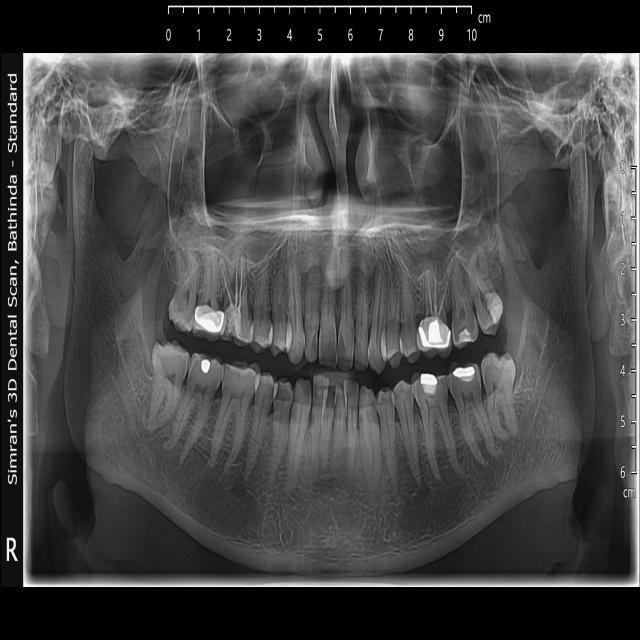Crown: (417, 314, 452, 349), (192, 303, 224, 337)
Filling: (224, 305, 242, 338), (487, 285, 503, 318), (421, 374, 436, 397), (453, 366, 473, 380), (458, 326, 472, 344), (200, 359, 211, 376)
Mandibular Canal: (408, 320, 563, 539), (102, 326, 260, 531)
Root Canal Treatment: (436, 257, 451, 316), (233, 246, 244, 309), (219, 258, 232, 304), (425, 258, 433, 314), (232, 238, 238, 308), (432, 251, 436, 321)
impacted tooth: (149, 340, 188, 436), (482, 356, 520, 440)
maxillary sinus: (371, 68, 498, 275), (167, 69, 301, 263)
